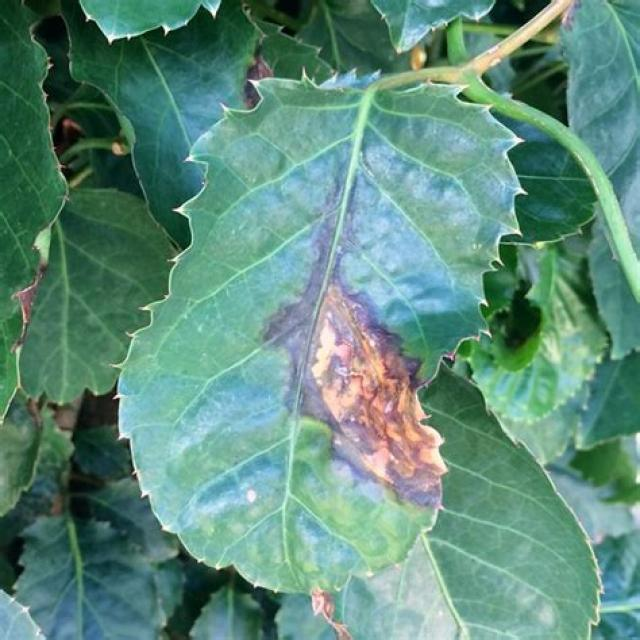blight: (286, 256, 472, 522)
